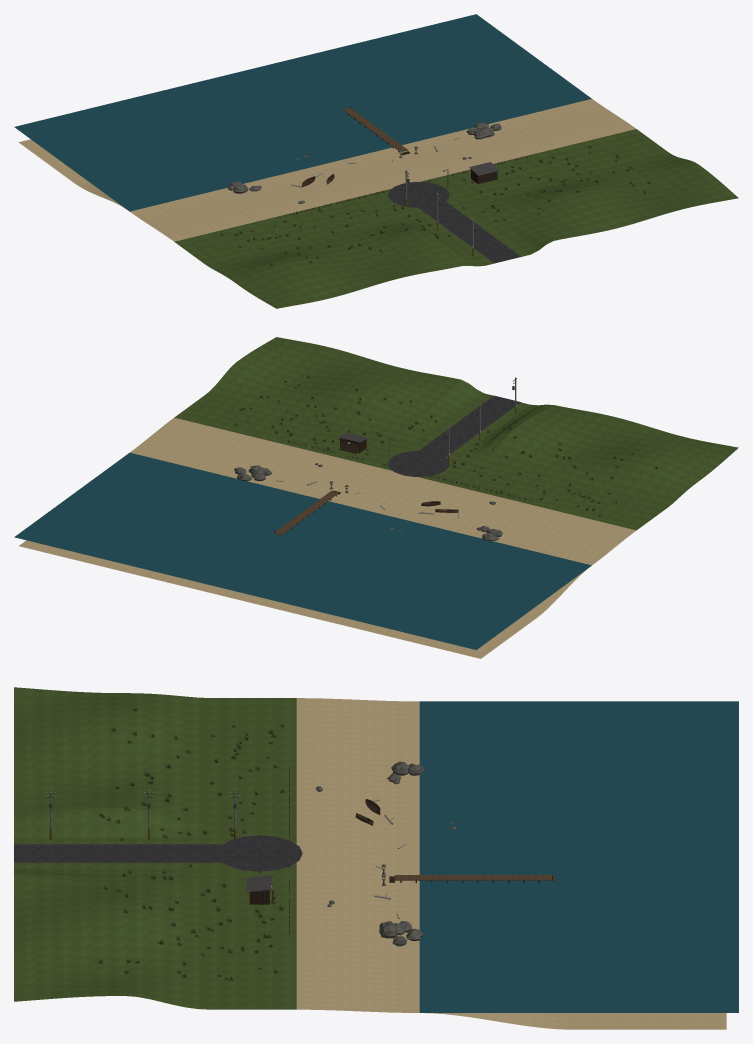
Rendered from shore.glb.
3 views of the same model, one above another, from view 1: azimuth 30°, elevation 25°; view 2: azimuth 150°, elevation 25°; view 3: azimuth 270°, elevation 25° (orthographic). The views are drawn at different scales.
Visible parts, largest first — view 1: shore; view 2: shore; view 3: shore.
Boxes of the visible parts, x1,y1,x2,y2 form: shore: (14,14,738,308); shore: (14,337,738,658); shore: (14,687,738,1029).
Size of the model in its own units: 120 by 12.6 by 118.
Materials: 17 (17 with a texture image).
